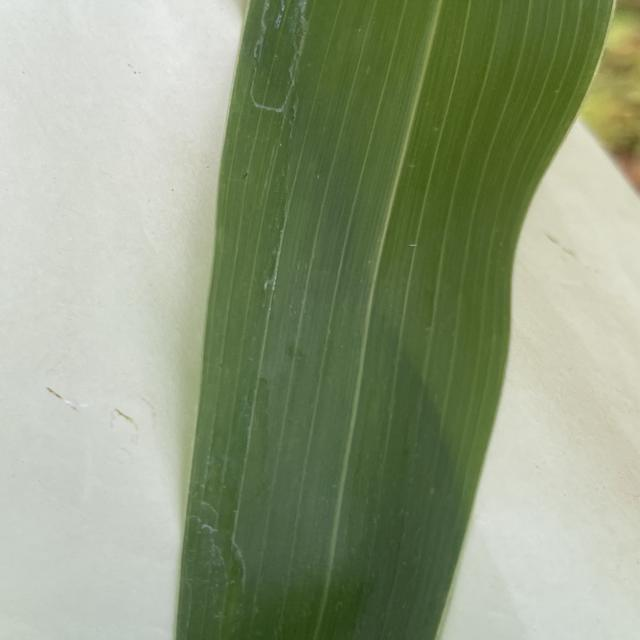millet_healthy: (174, 0, 624, 640)
